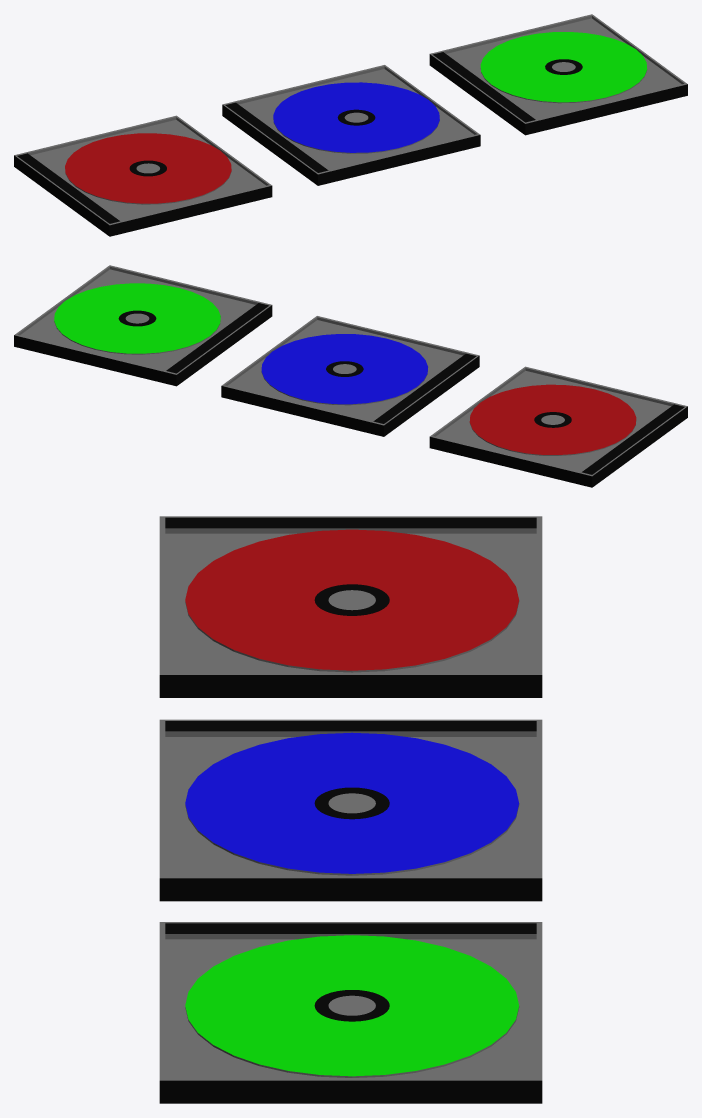
Rendered from caixa_de_CDDDDDDDDD.fbx.
The picture shows the model from 3 angles, top to bottom: view 1: azimuth 30°, elevation 25°; view 2: azimuth 150°, elevation 25°; view 3: azimuth 270°, elevation 25°; orthographic projection. The views are drawn at different scales.
Visible parts, largest first — view 1: Plane, Plane.001, Plane.002; view 2: Plane, Plane.001, Plane.002; view 3: Plane.001, Plane, Plane.002.
Part boxes in pixels (<box>): Plane: <box>14,115,272,236</box>; Plane.001: <box>222,65,480,185</box>; Plane.002: <box>429,14,687,135</box>; Plane: <box>429,366,687,487</box>; Plane.001: <box>221,316,479,436</box>; Plane.002: <box>14,265,272,386</box>; Plane.001: <box>159,719,542,901</box>; Plane: <box>159,516,542,697</box>; Plane.002: <box>159,922,542,1103</box>.
Size of the model in its own units: 242 by 4.75 by 69.33.
